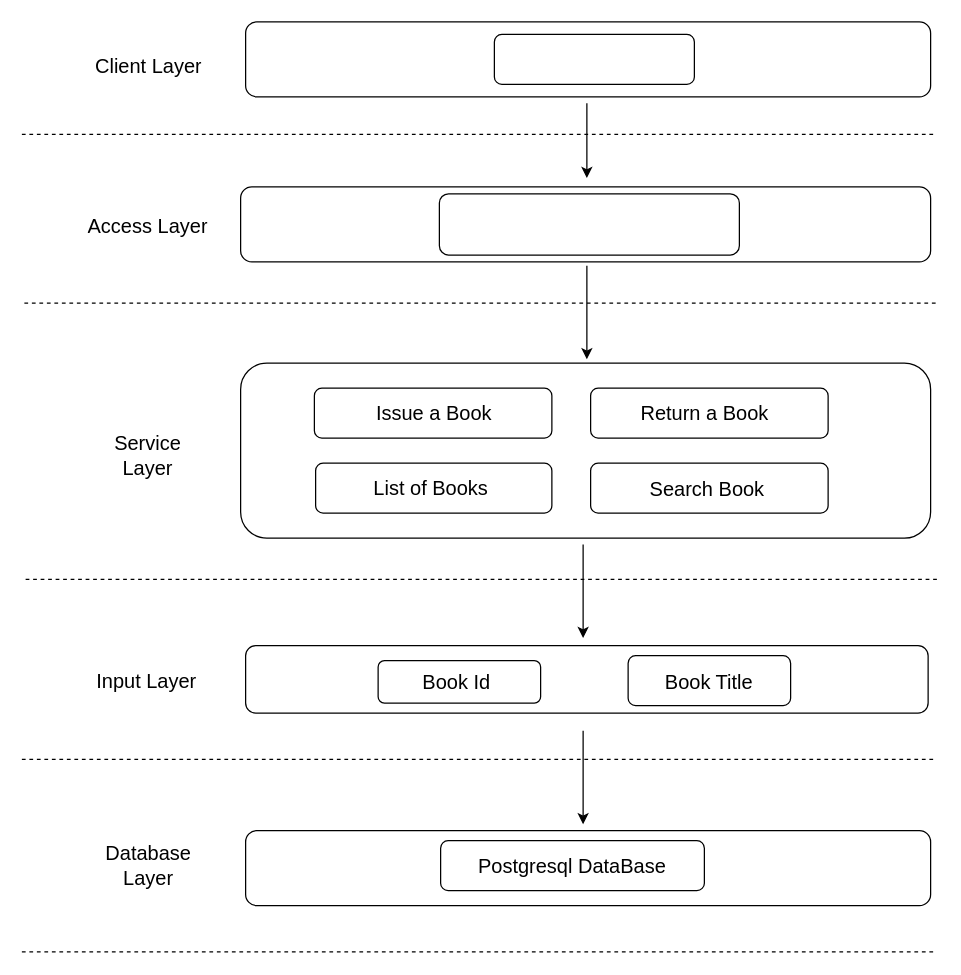
This 961x975 diagram has some shape labels left out. Each missing label, with the box of its shape:
Librarian: (493, 33, 694, 84)
Web Browser (Chrome, Microsoft Edge, Mozilla Firefox): (438, 192, 739, 255)
